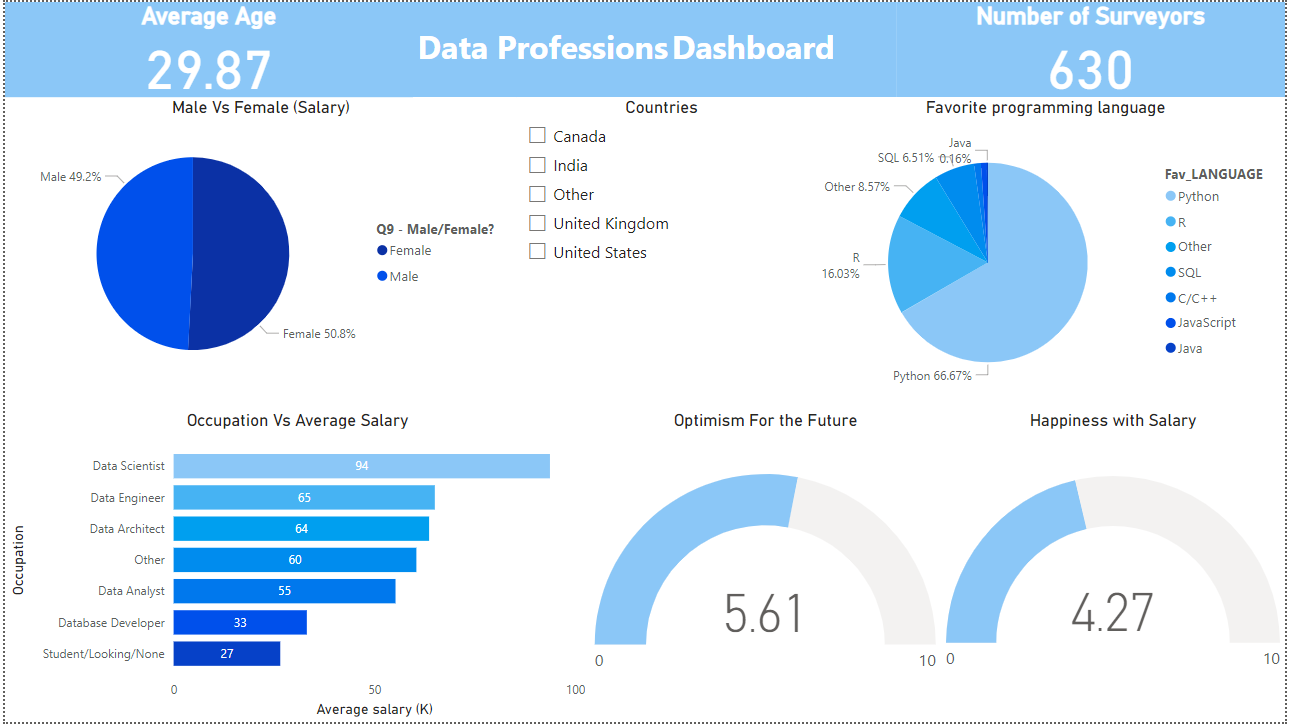

This screenshot's page, from the dashboard's own definition file:
{"tool":"powerbi","page":{"name":"Page 1","canvas":[1280,720],"ordinal":0},"visuals":[{"type":"textbox","box":[407.7,0,484,95.4],"z":0},{"type":"card","title":"Number of Surveyors","fields":{"Values":["CountNonNull(Data Professional Survey.Unique ID)"]},"box":[891.7,0,388.6,95.4],"z":1000},{"type":"barChart","title":"Occupation Vs Average Salary","fields":{"Category":["Data Professional Survey.Q1 - Which Title Best Fits your Current Role?.1"],"Y":["Avg(Data Professional Survey.Avg_salary)"],"Series":["Data Professional Survey.Q1 - Which Title Best Fits your Current Role?.1"]},"box":[0,407.8,585.1,312.5],"z":2000},{"type":"pieChart","title":"Favorite programming language","fields":{"Category":["Data Professional Survey.Fav_LANGUAGE"],"Y":["CountNonNull(Data Professional Survey.Fav_LANGUAGE)"]},"box":[801.7,95.4,478.6,312.2],"z":3000},{"type":"gauge","title":"Happiness with Salary","fields":{"Y":["Avg(Data Professional Survey.Q6 - How Happy are you in your Current Position with the following? (Salary))"],"MinValue":["Min(Data Professional Survey.Q6 - How Happy are you in your Current Position with the following? (Salary))"],"MaxValue":["Max(Data Professional Survey.Q6 - How Happy are you in your Current Position with the following? (Salary))1"]},"box":[936.2,407.8,343.8,312.5],"z":4000},{"type":"pieChart","title":"Male Vs Female (Salary)","fields":{"Category":["Data Professional Survey.Q9 - Male/Female?"],"Y":["Avg(Data Professional Survey.Avg_salary)"]},"box":[0,95.4,511.3,294.5],"z":5000},{"type":"gauge","title":"Optimism For the Future","fields":{"Y":["Avg(Data Professional Survey.Q6 - How Happy are you in your Current Position with the following? (Learning New Things))"],"MinValue":["Min(Data Professional Survey.Q6 - How Happy are you in your Current Position with the following? (Learning New Things))"],"MaxValue":["Max(Data Professional Survey.Q6 - How Happy are you in your Current Position with the following? (Learning New Things))"]},"box":[585.1,407.8,351.1,312.5],"z":6000},{"type":"card","title":"Average Age","fields":{"Values":["Avg(Data Professional Survey.Q10 - Current Age)"]},"box":[0,0,407.7,95.4],"z":7000},{"type":"slicer","title":"Countries","fields":{"Values":["Data Professional Survey.Q11 - Which Country do you live in?.1"]},"box":[511.3,95.4,290.4,184.1],"z":8000}]}

Visuals, with their boxes in screenshot pixels (x1, y1, x2, y2), scaled from the page's 1280x720 canvas onto the 1290x726 screenshot:
textbox: 411, 0, 899, 96
"Number of Surveyors" card: 899, 0, 1289, 96
"Occupation Vs Average Salary" barChart: 0, 411, 590, 725
"Favorite programming language" pieChart: 808, 96, 1289, 411
"Happiness with Salary" gauge: 944, 411, 1289, 725
"Male Vs Female (Salary)" pieChart: 0, 96, 515, 393
"Optimism For the Future" gauge: 590, 411, 944, 725
"Average Age" card: 0, 0, 411, 96
"Countries" slicer: 515, 96, 808, 282
